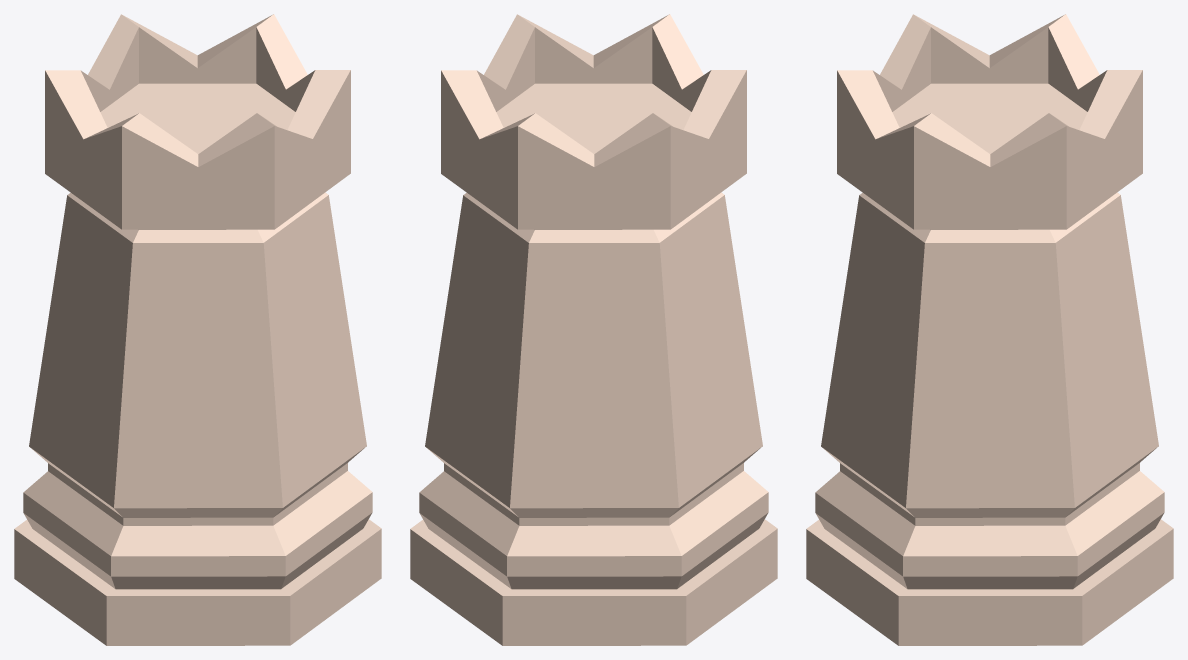
The model's file is chessPieces_Chess_Rook_White.fbx.
3 renders of one model, left to right at view 1: azimuth 30°, elevation 25°; view 2: azimuth 150°, elevation 25°; view 3: azimuth 270°, elevation 25°, orthographic.
Parts seen in each view (by area): view 1: Chess_Rook_White; view 2: Chess_Rook_White; view 3: Chess_Rook_White.
Part boxes in pixels (<box>): Chess_Rook_White: <box>14,14,381,645</box>; Chess_Rook_White: <box>410,14,777,645</box>; Chess_Rook_White: <box>806,14,1173,645</box>.
Bounding box in the file's own units: 231 × 407 × 267.
